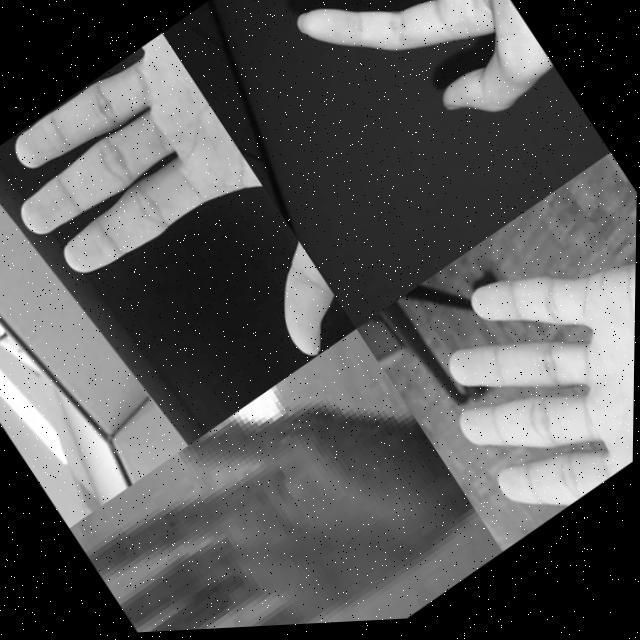no-gloves: (0, 26, 358, 462), (69, 327, 484, 637), (396, 186, 638, 547), (251, 0, 559, 195)
